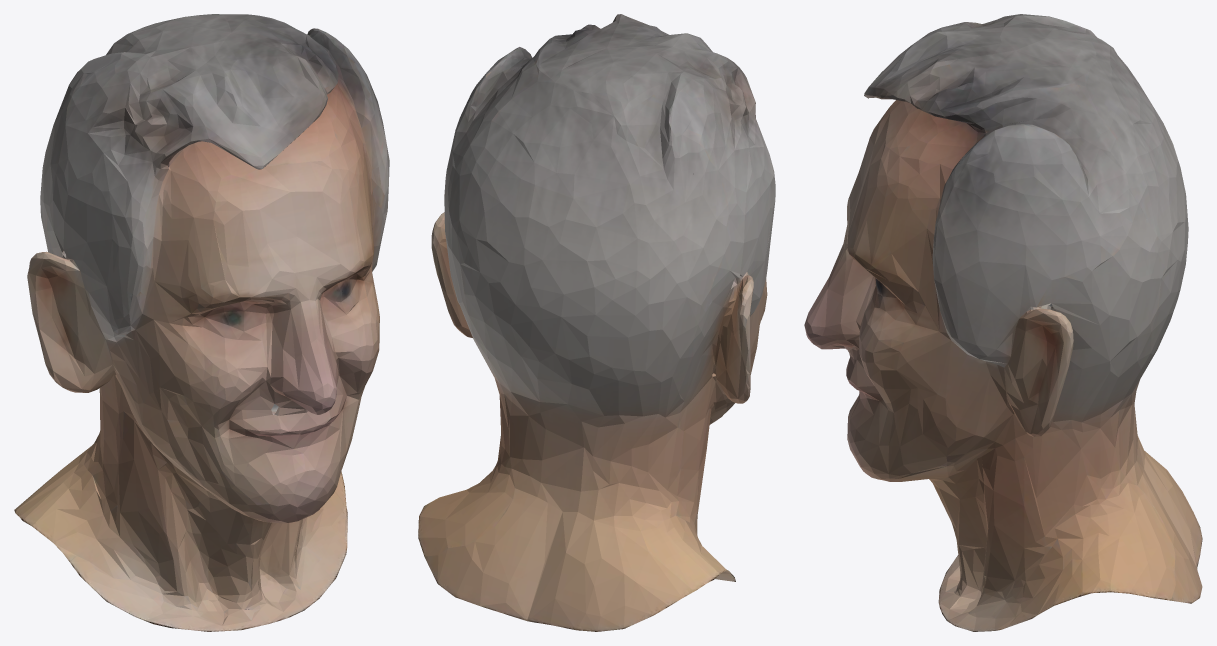
Rendered from head-grey.glb.
3 views of the same model, side by side, from view 1: azimuth 30°, elevation 25°; view 2: azimuth 150°, elevation 25°; view 3: azimuth 270°, elevation 25° (orthographic). The views are drawn at different scales.
Parts seen in each view (by area): view 1: geometry_0; view 2: geometry_0; view 3: geometry_0.
Part boxes in pixels (<box>): geometry_0: <box>14,14,389,631</box>; geometry_0: <box>418,14,775,631</box>; geometry_0: <box>804,14,1202,631</box>.
Bounding box in the file's own units: 0.6156 × 0.9962 × 0.648.
1 material, 1 textured.
